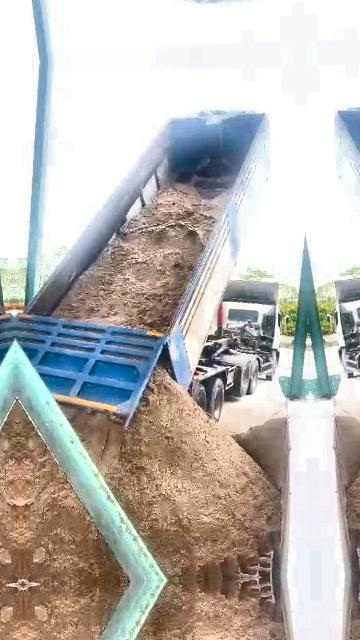sand: (67, 371, 279, 580), (53, 185, 227, 331), (18, 412, 124, 584), (235, 406, 289, 489)
